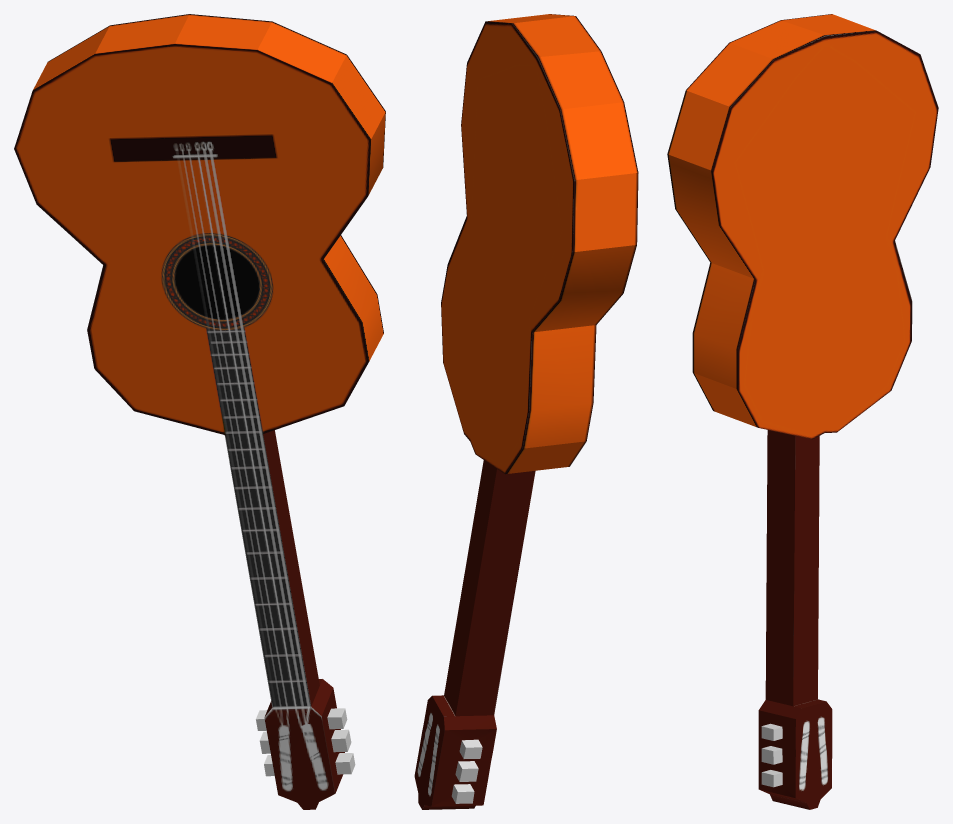
Rendered from Guitarra2_000018.obj.
3 renders of one model, left to right at view 1: azimuth 30°, elevation 25°; view 2: azimuth 150°, elevation 25°; view 3: azimuth 270°, elevation 25°, orthographic. The views are drawn at different scales.
Parts seen in each view (by area): view 1: g2_pPlane4.001; view 2: g2_pPlane4.001; view 3: g2_pPlane4.001.
Boxes of the visible parts, left/top/right/bottom form: g2_pPlane4.001: left=14, top=14, right=385, bottom=809; g2_pPlane4.001: left=414, top=14, right=638, bottom=809; g2_pPlane4.001: left=667, top=14, right=938, bottom=809.
Bounding box in the file's own units: 4.55 × 12.22 × 4.15.
